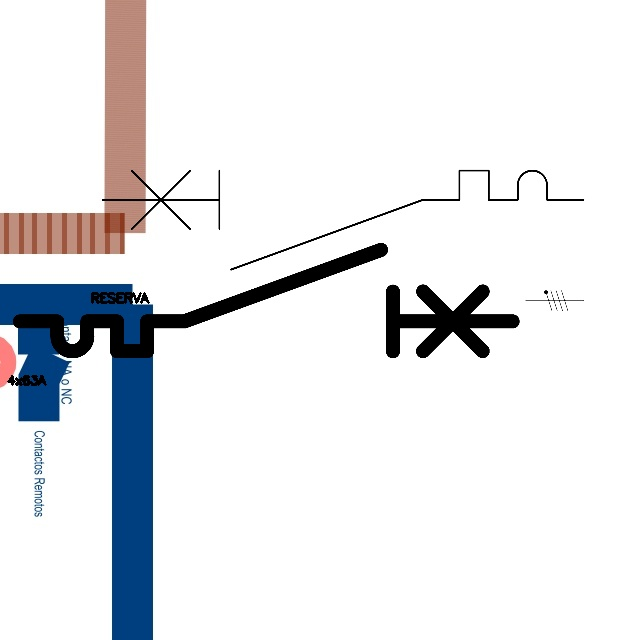interruptor_termomagnetico: (7, 237, 525, 364), (90, 158, 596, 282)
